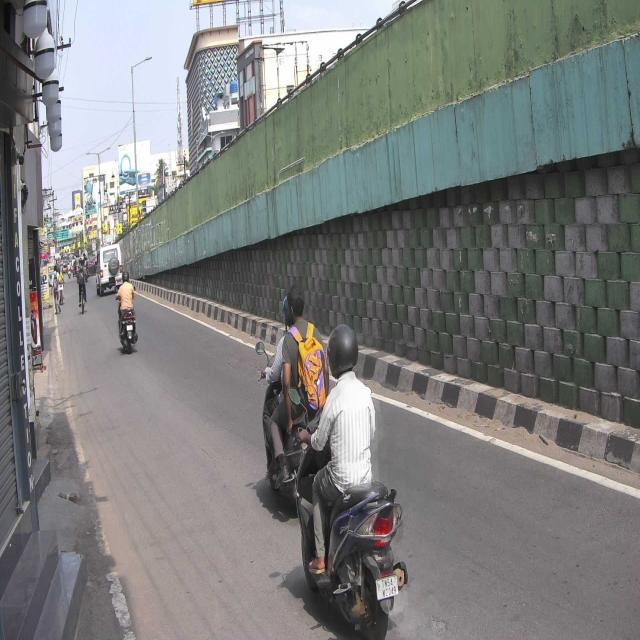double_rider: (257, 276, 313, 496)
single_rider: (312, 318, 404, 640)
